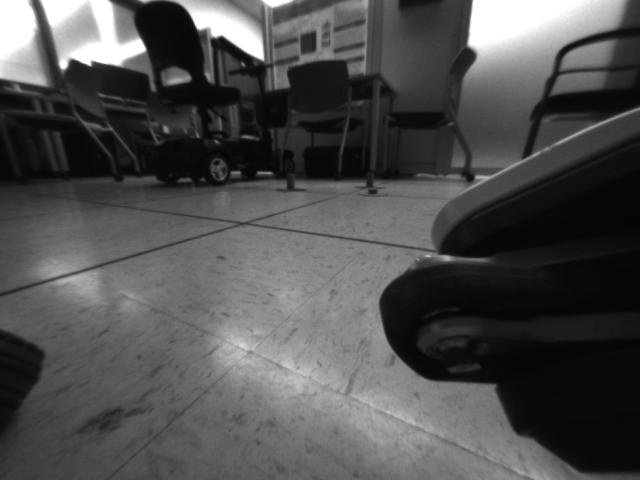X: (275, 172, 308, 194), (357, 172, 386, 189)
